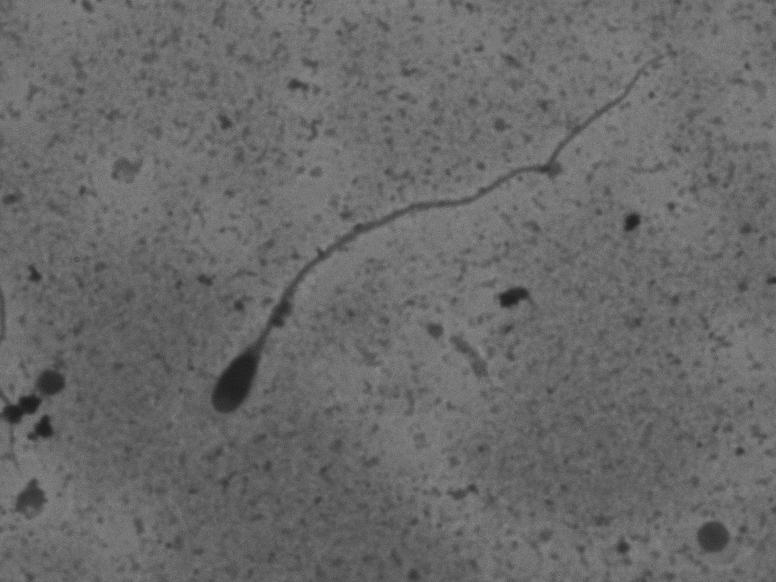Abnormal: (136, 28, 717, 427)
